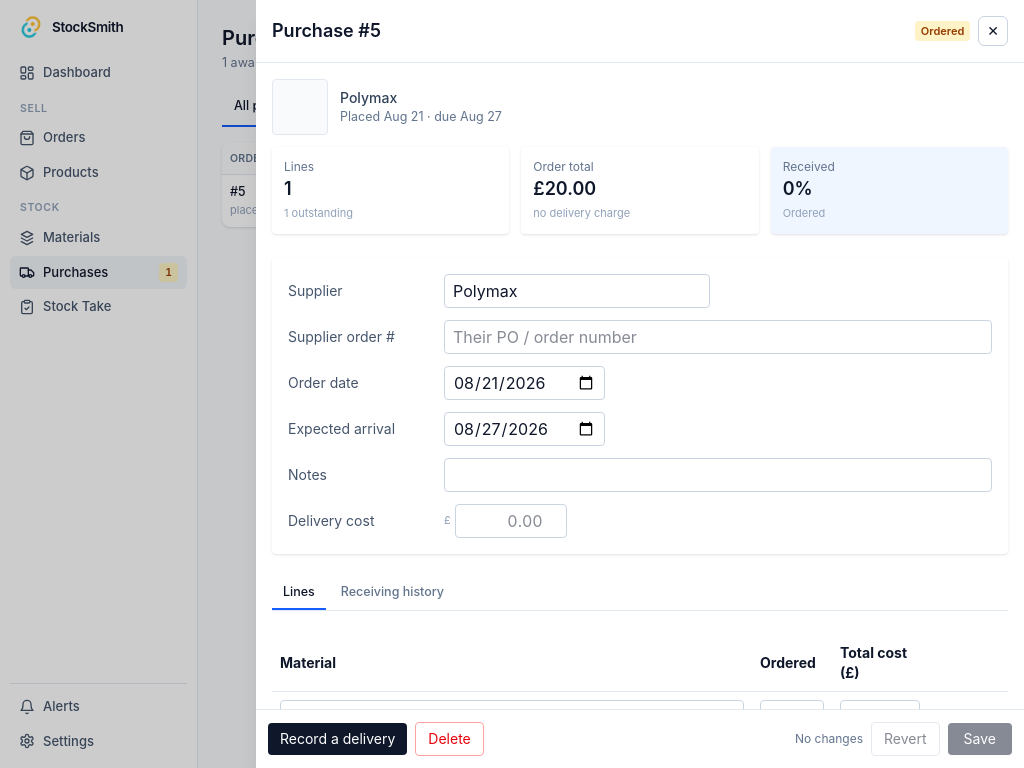
Test case: asks before deleting
Expected: the heading "Purchase #5" is shown, [272, 17, 381, 45]
What coordinates should you click on to do the following:
click the button "Delete"
I would click on:
 (450, 739)
Its box is [415, 722, 484, 756].
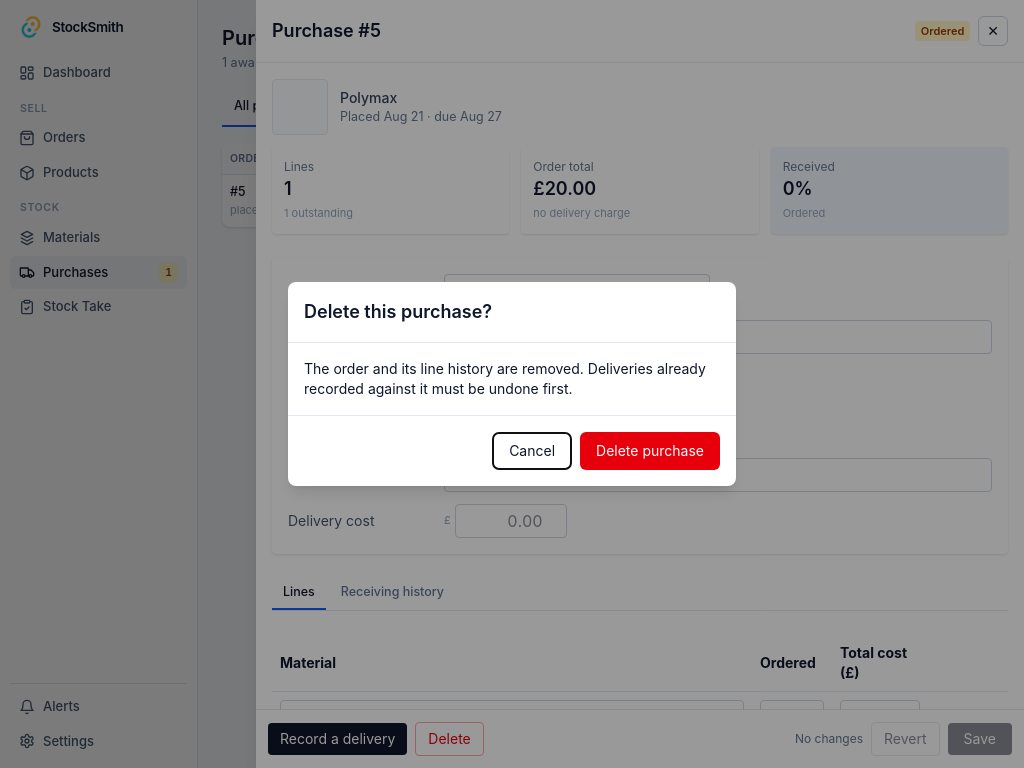
Result: the heading "Delete this purchase?" is shown at [304, 301, 492, 322]
